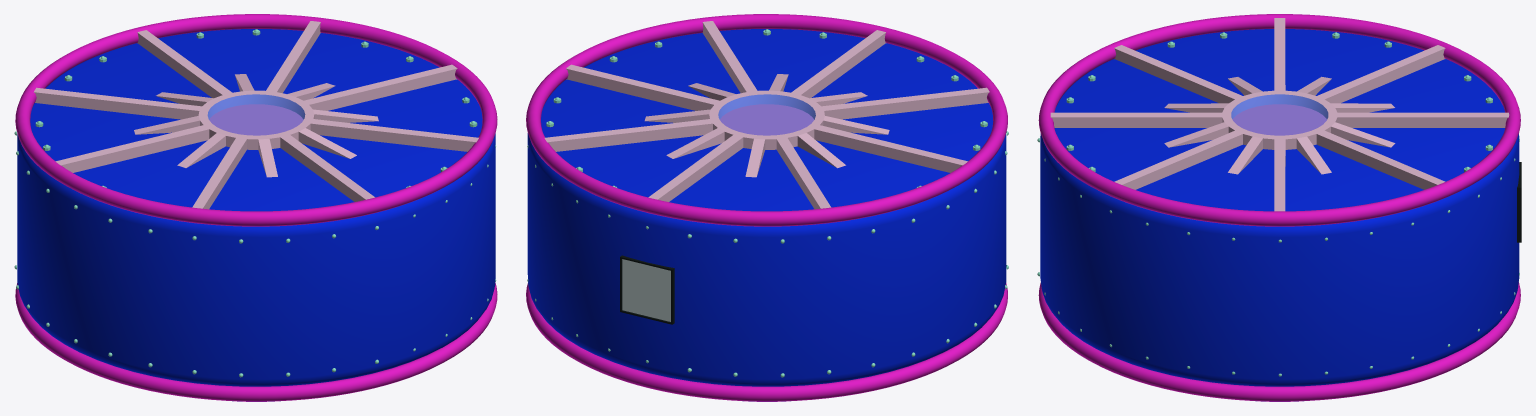
The picture shows the model from 3 angles, left to right: view 1: azimuth 30°, elevation 25°; view 2: azimuth 150°, elevation 25°; view 3: azimuth 270°, elevation 25°; orthographic projection.
Visible parts, largest first — view 1: tank; view 2: tank; view 3: tank.
Boxes of the visible parts, bbox=[...] form: tank: bbox=[14, 14, 497, 401]; tank: bbox=[526, 14, 1008, 401]; tank: bbox=[1037, 14, 1521, 401].
Size of the model in its own units: 1.25 by 0.6354 by 1.25.
